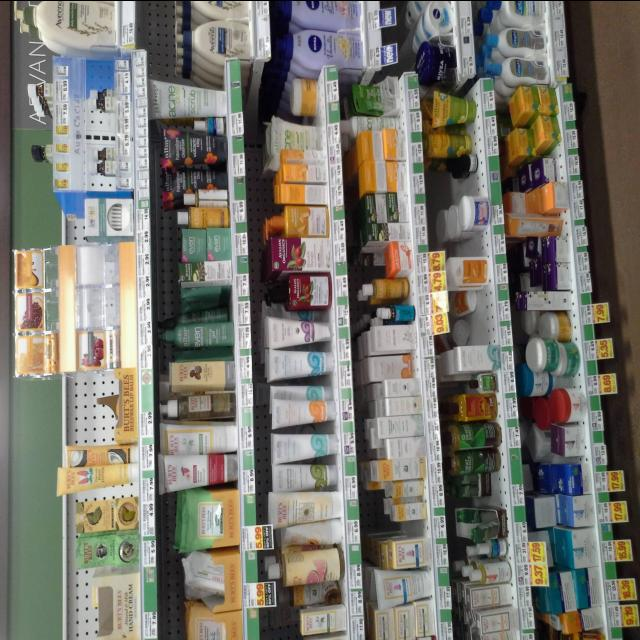empty_space: (74, 591, 110, 635), (476, 294, 492, 338), (389, 520, 423, 538), (456, 240, 489, 256), (444, 180, 480, 194), (490, 470, 505, 502)
